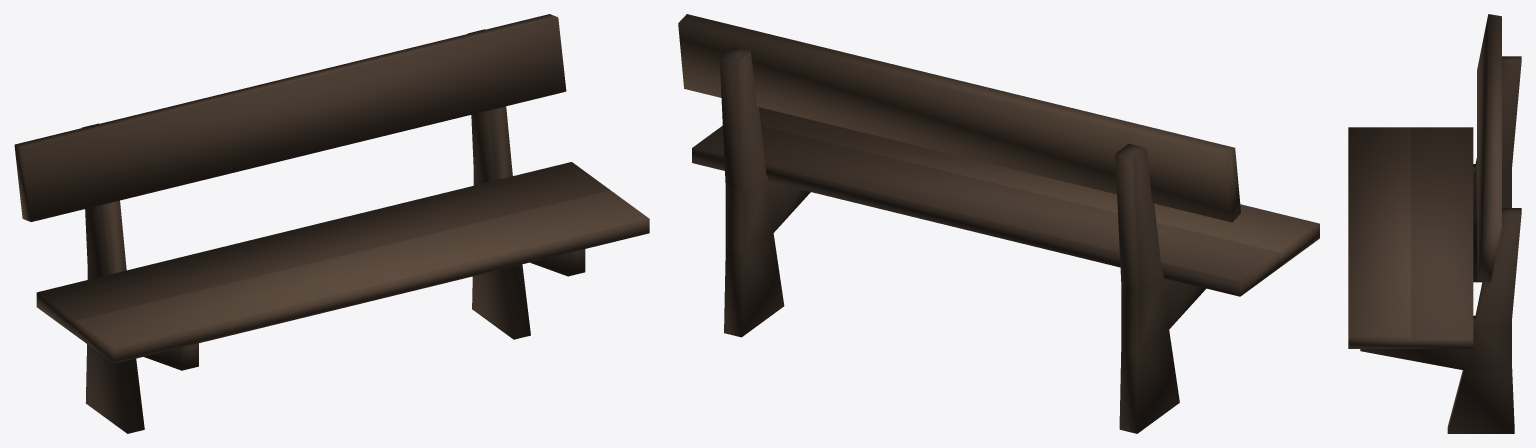
The model's file is furnishings-chairs-woodbenchbasic_v1.glb.
3 renders of one model, left to right at view 1: azimuth 30°, elevation 25°; view 2: azimuth 150°, elevation 25°; view 3: azimuth 270°, elevation 25°, orthographic. The views are drawn at different scales.
Parts seen in each view (by area): view 1: WoodBenchBasic.001; view 2: WoodBenchBasic.001; view 3: WoodBenchBasic.001.
Part boxes in pixels (x1,y1,x2,y2): WoodBenchBasic.001: [14, 14, 649, 433]; WoodBenchBasic.001: [678, 14, 1319, 433]; WoodBenchBasic.001: [1348, 14, 1521, 433].
Bounding box in the file's own units: 1.81 × 0.9191 × 0.6251.
